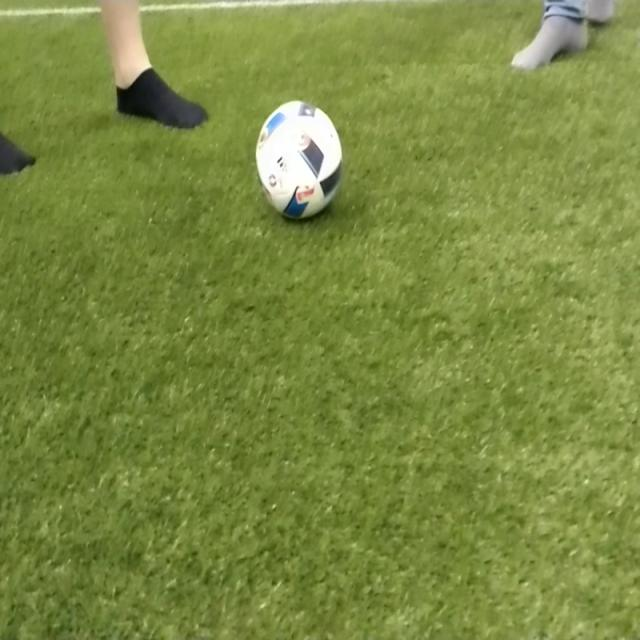ball: (256, 100, 343, 221)
